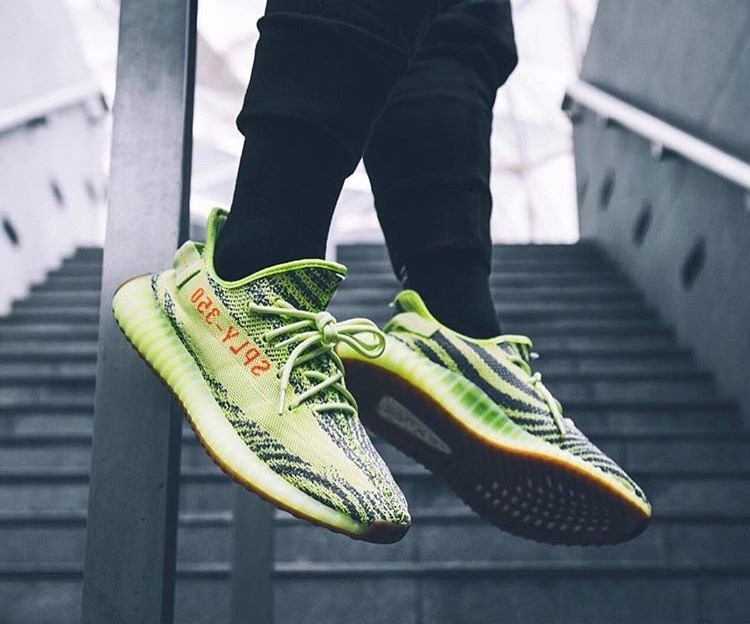Yeezy Semi-Frozen: (109, 195, 413, 580), (312, 280, 669, 549)
